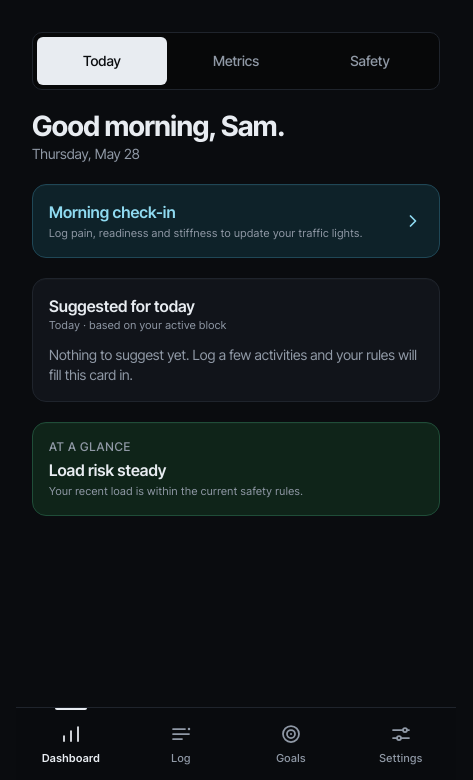
Test: Screen stack — push/pop navigation (F8.2) › popping the stack removes the overlay and restores the tab bar
Push goal-editor onto the stack
Click the button "Goals" at (291, 744), box [236,708,346,779]
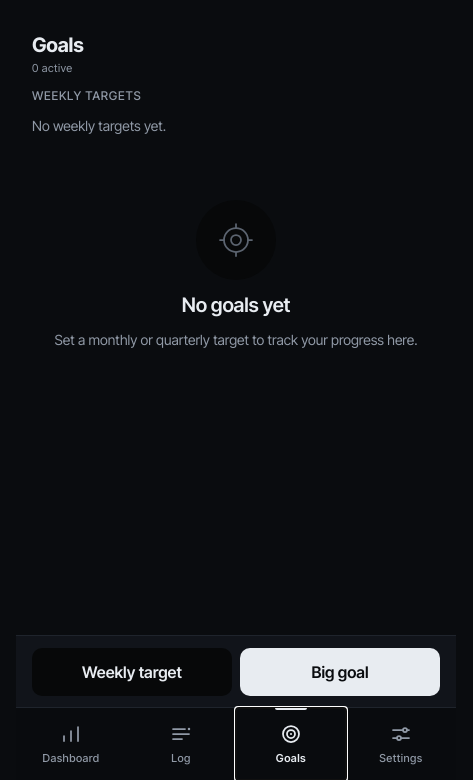
Click the button "Big goal" at (340, 672), box [240,648,440,696]
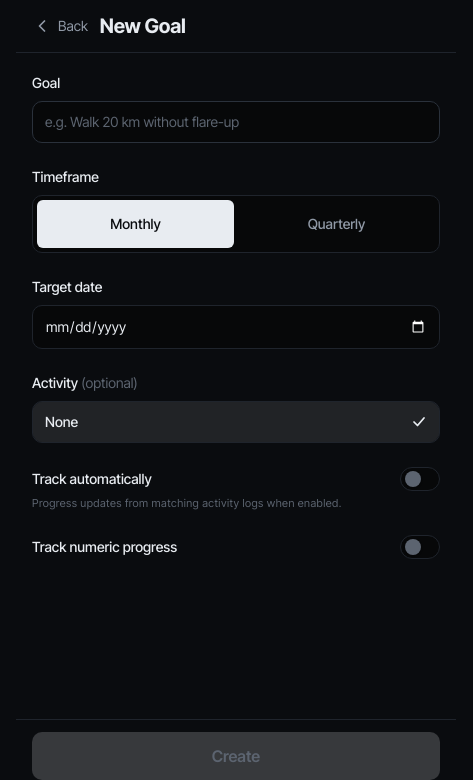
Check: the element with test id "stack-screen-overlay" is shown
Check: the navigation bar "Primary" is gone
Pop the stack via the back button inside the overlay
Click the button with aria-label "go back" at (60, 26), box [32,12,88,40]
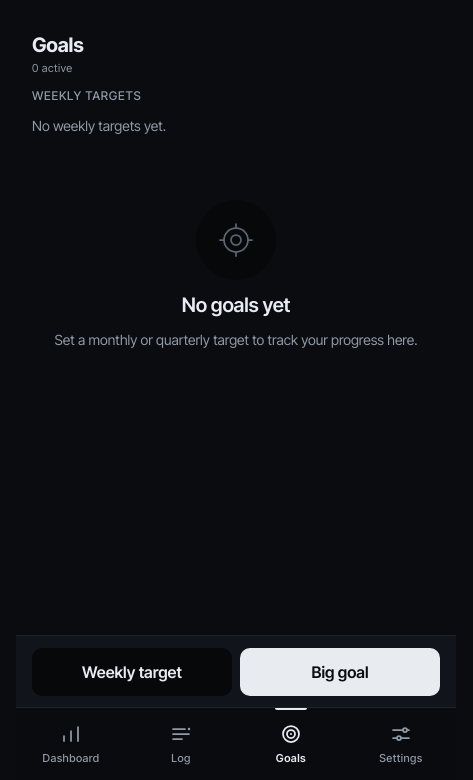
Check: the element with test id "stack-screen-overlay" is gone
Check: the navigation bar named "Primary" is shown, box [16,707,456,779]
